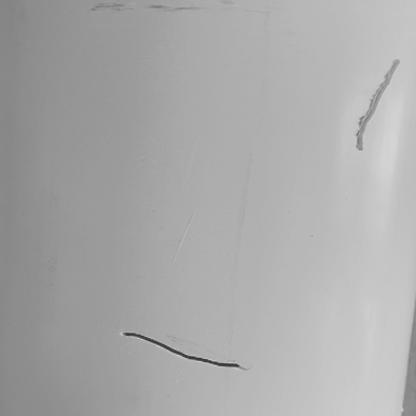fengxi: (116, 329, 247, 372)
sunshang: (355, 60, 396, 149)
